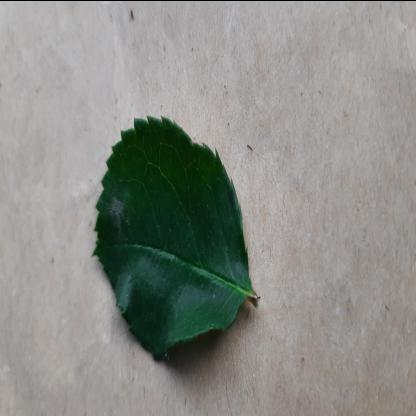powdery-mildew: (92, 104, 254, 368)
